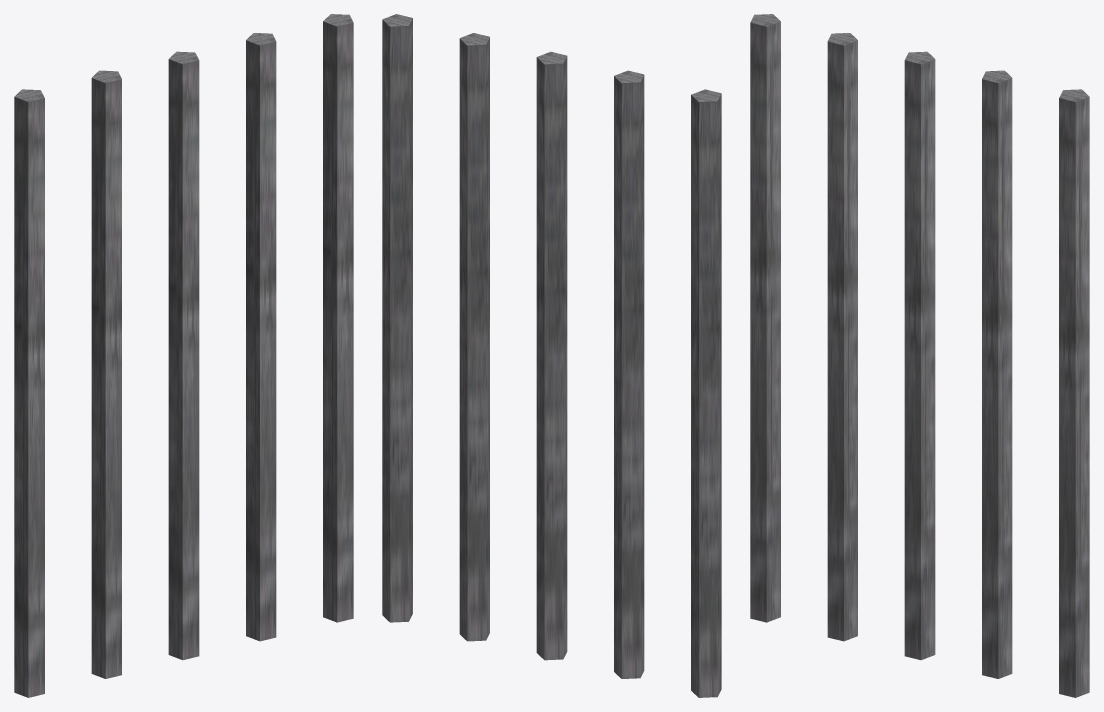
Rendered from GateBars.glb.
3 renders of one model, left to right at view 1: azimuth 30°, elevation 25°; view 2: azimuth 150°, elevation 25°; view 3: azimuth 330°, elevation 25°, orthographic.
Parts seen in each view (by area): view 1: Cylinder; view 2: Cylinder; view 3: Cylinder.
Part boxes in pixels (x1,y1,x2,y2): Cylinder: [14, 14, 353, 697]; Cylinder: [382, 14, 721, 697]; Cylinder: [750, 14, 1089, 697].
Bounding box in the file's own units: 5.16 × 8.76 × 0.3896.
Materials: 1 (1 with a texture image).
